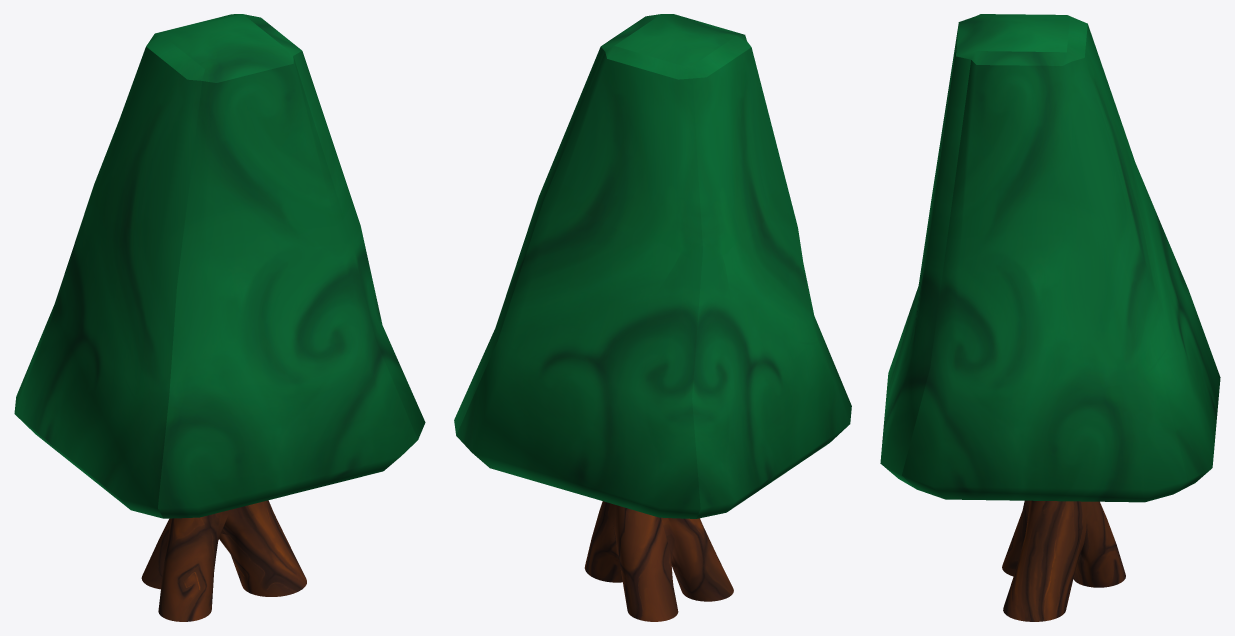
The model's file is Boom1.FBX.
The picture shows the model from 3 angles, left to right: view 1: azimuth 30°, elevation 25°; view 2: azimuth 150°, elevation 25°; view 3: azimuth 270°, elevation 25°; orthographic projection. The views are drawn at different scales.
Visible parts, largest first — view 1: BoomStam; view 2: BoomStam; view 3: BoomStam.
Boxes of the visible parts, box(x1,y1,x2,y2) form: BoomStam: box(14, 14, 425, 621); BoomStam: box(454, 14, 851, 621); BoomStam: box(880, 14, 1220, 621).
Bounding box in the file's own units: 105 × 187 × 103.
2 materials, 2 textured.
